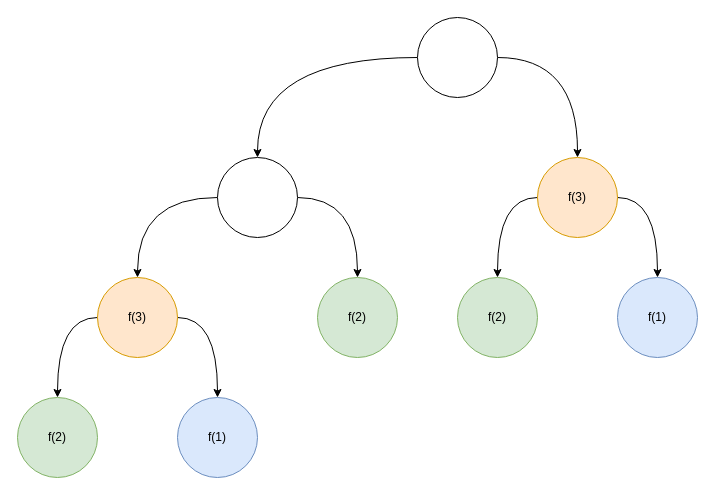
Image size: 715x495. Some labels were removed from this diagram. The shapes that lost their labels are listed below. From the top down, each one's box as (x1, y1, x2, y2) in pixels, then its label:
(416, 16, 498, 98): f(5)
(216, 156, 298, 238): f(4)
